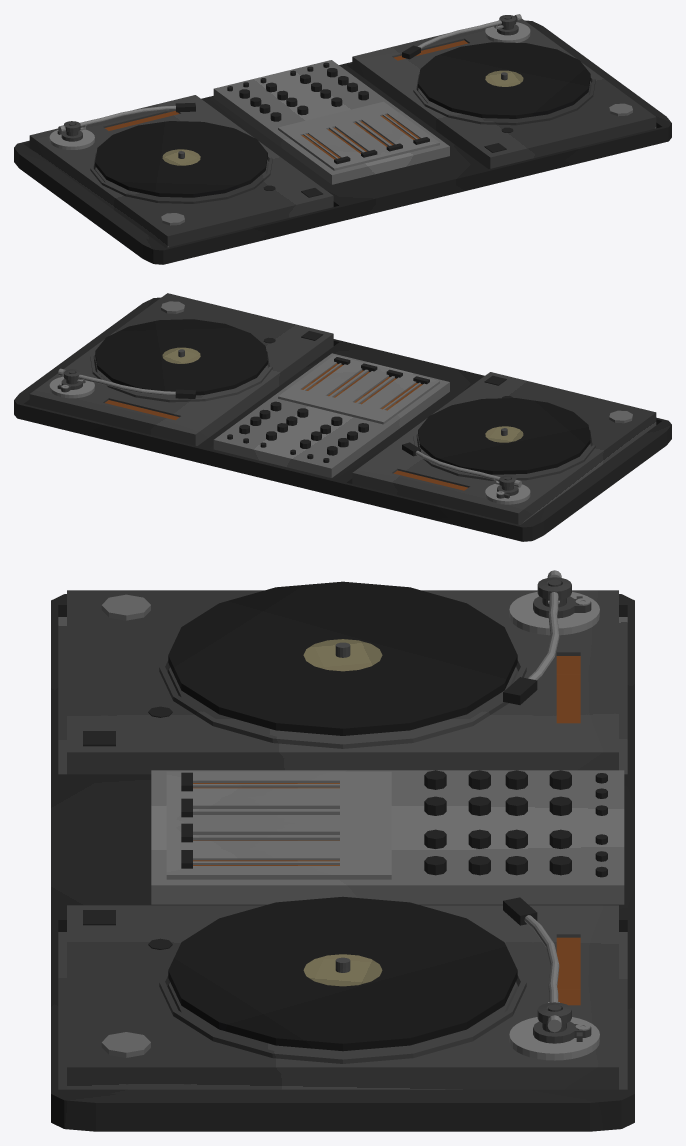
The model's file is Mixer.glb.
The picture shows the model from 3 angles, top to bottom: view 1: azimuth 30°, elevation 25°; view 2: azimuth 150°, elevation 25°; view 3: azimuth 270°, elevation 25°; orthographic projection. The views are drawn at different scales.
Parts seen in each view (by area): view 1: Material-material; view 2: Material-material; view 3: Material-material.
Boxes of the visible parts, x1=… form: Material-material: x1=14, y1=14, x2=671, y2=264; Material-material: x1=14, y1=293, x2=671, y2=541; Material-material: x1=51, y1=570, x2=634, y2=1131.
Size of the model in its own units: 1.63 by 0.1206 by 0.7869.
Materials: 1 (1 with a texture image).
